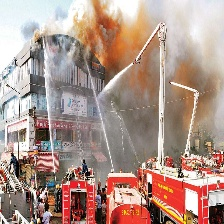smoke: (58, 1, 224, 122)
